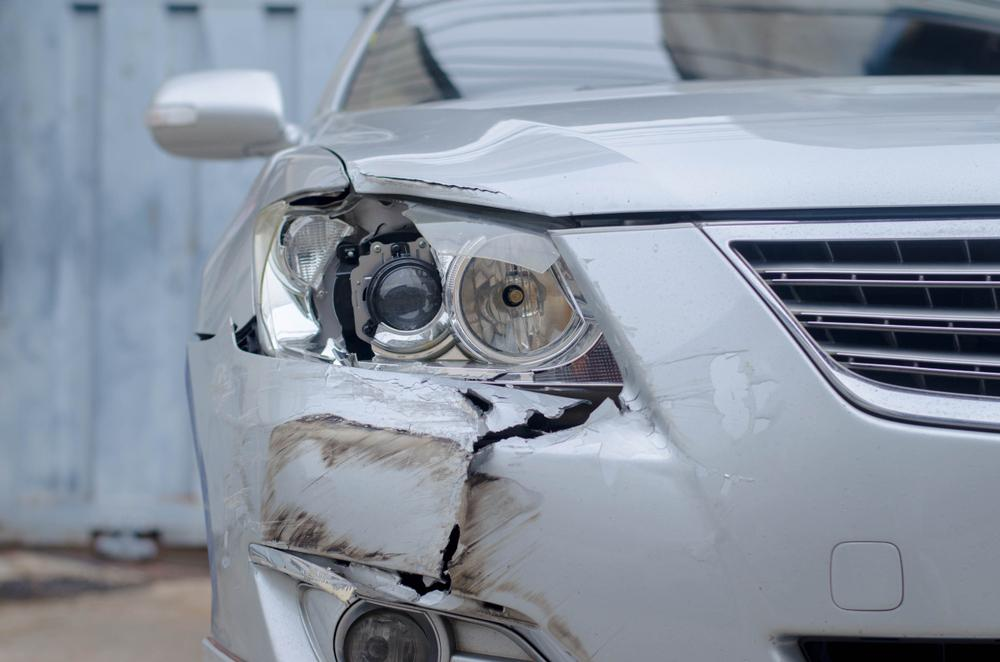crack: (472, 399, 607, 454), (397, 523, 462, 597), (461, 388, 492, 414)
lamp broken: (252, 199, 626, 398)
scratch: (214, 362, 481, 577), (450, 470, 607, 662)
